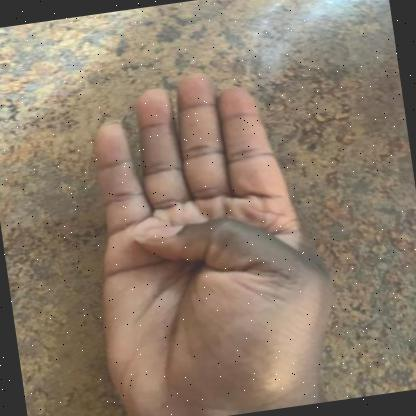B: (94, 72, 333, 416)
